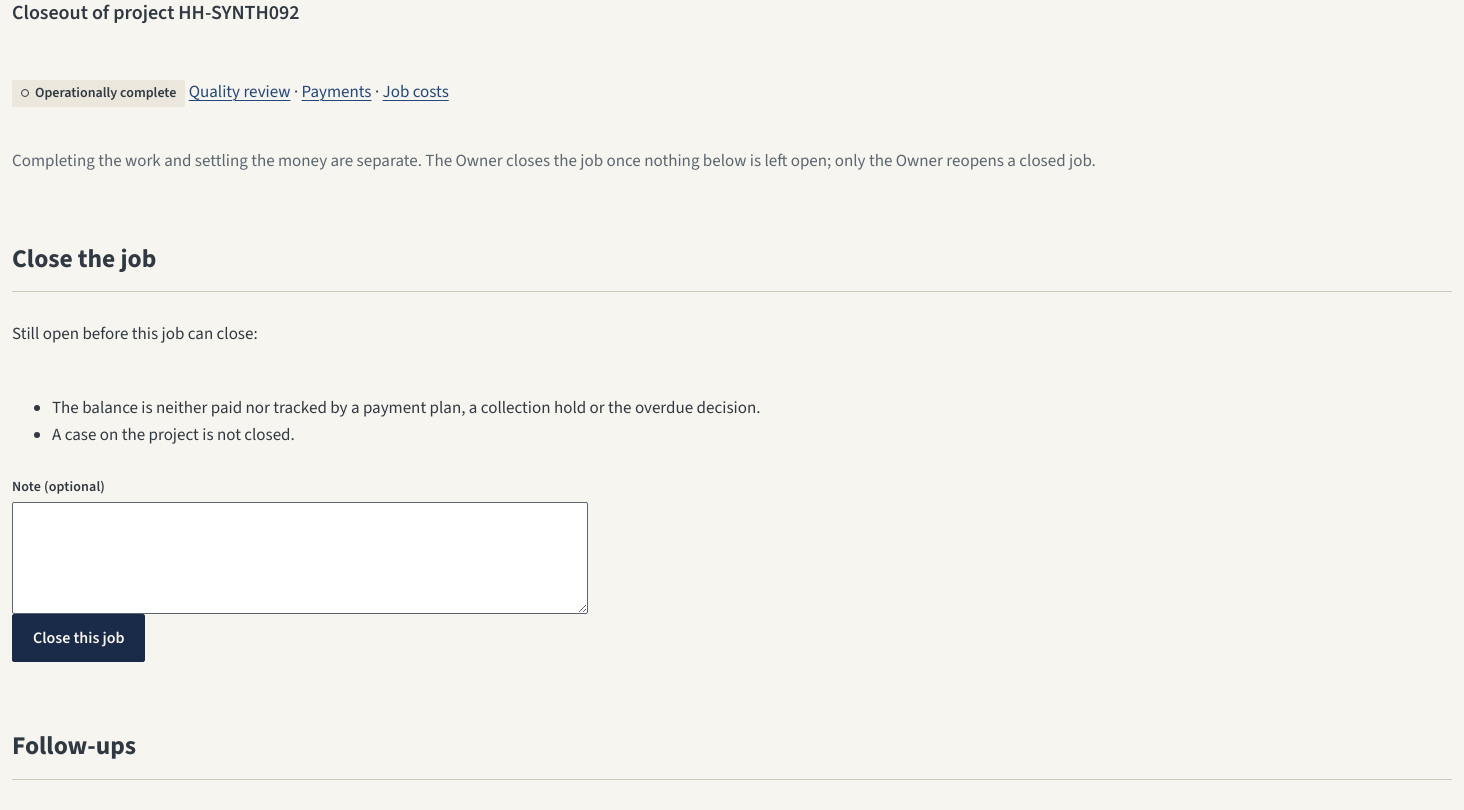
it: [HH-QA-09] closing a job › names every obligation still open; the refusal names them too; the close sends the version
expect the heading "Closeout of project HH-SYNTH092" is shown: met, box top-left (12, 0), bottom-right (300, 27)
expect the list items read "The balance is neither paid nor tracked by a payment plan, a collection hold or the overdue decision.", "A case on the project is not closed.", in this order: met, box top-left (52, 396), bottom-right (760, 420); top-left (52, 423), bottom-right (295, 447)
Click the button "Close this job" at (79, 638), box top-left (12, 614), bottom-right (146, 662)
(page scrolled)
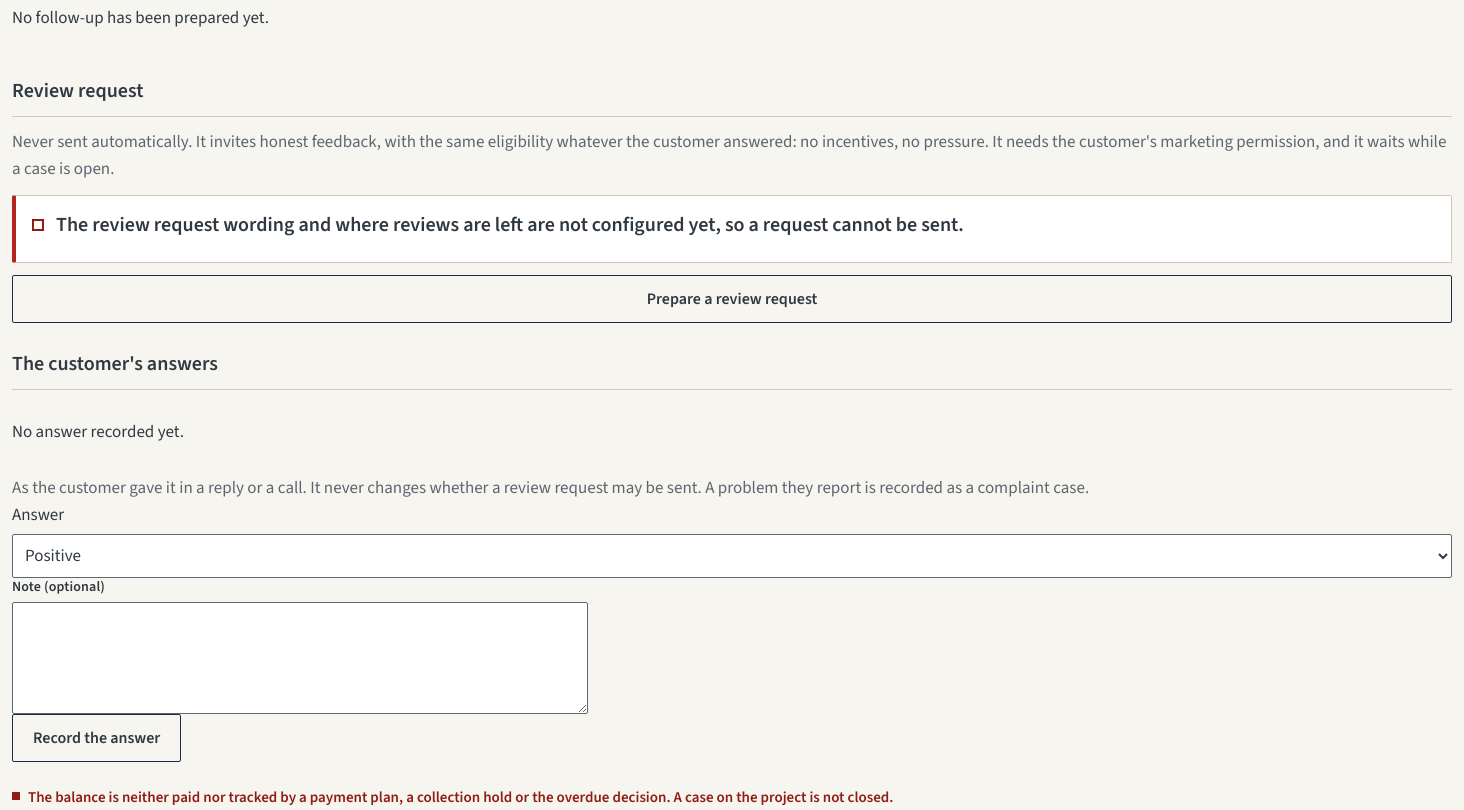
expect the 2nd message shows "A case on the project is not closed.": met, box top-left (28, 787), bottom-right (893, 808)
